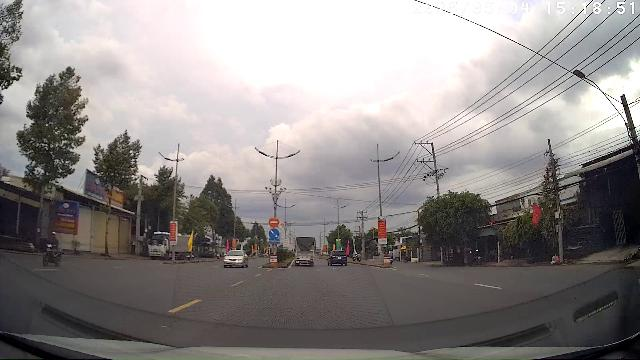102-cam-di-nguoc-chieu: (269, 217, 279, 227)
302a-huong-phai-di-vong-chuong-ngai-vat-1: (268, 228, 280, 238)
